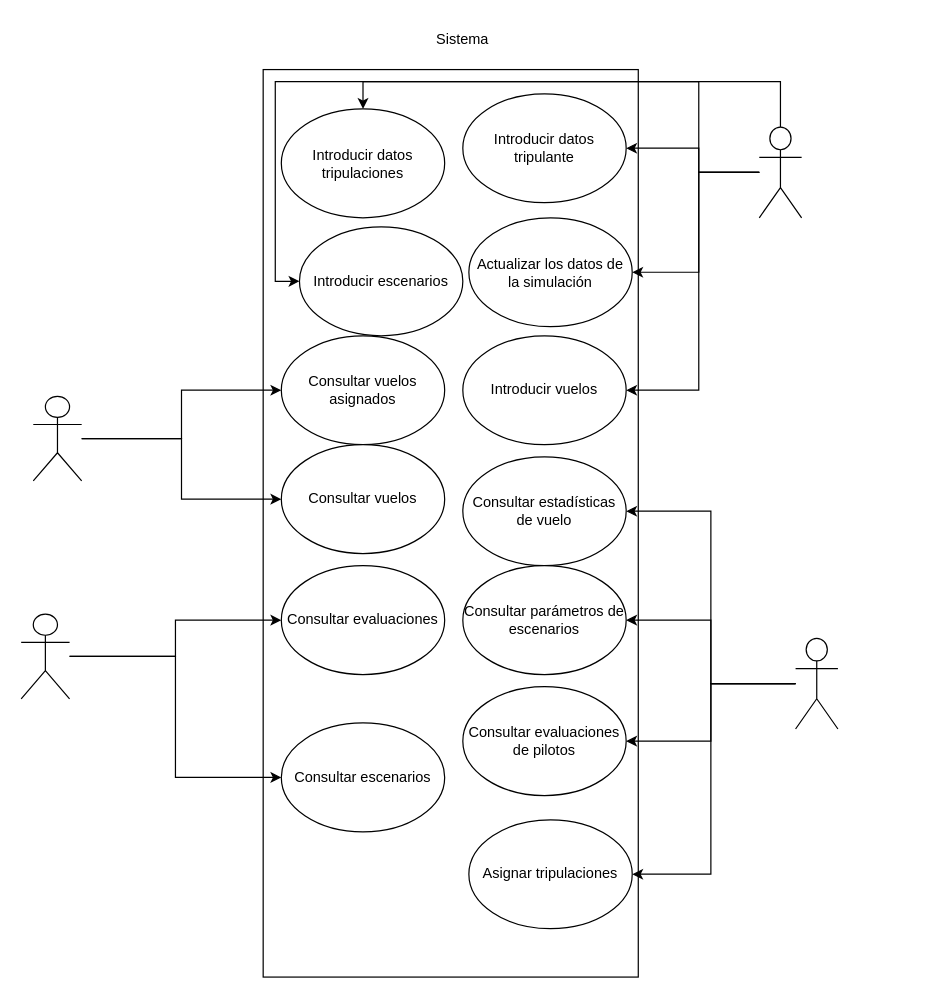
Image size: 928x998. Some labels were removed from this diagram. Here are the shapes that lost their labels. From the top down, the box of each, then its label:
(758, 126, 802, 218): Personal administrativo de la compañía
(32, 395, 82, 481): Tripulantes
(20, 613, 70, 699): Piloto
(794, 637, 838, 729): Operadores de vuelos
